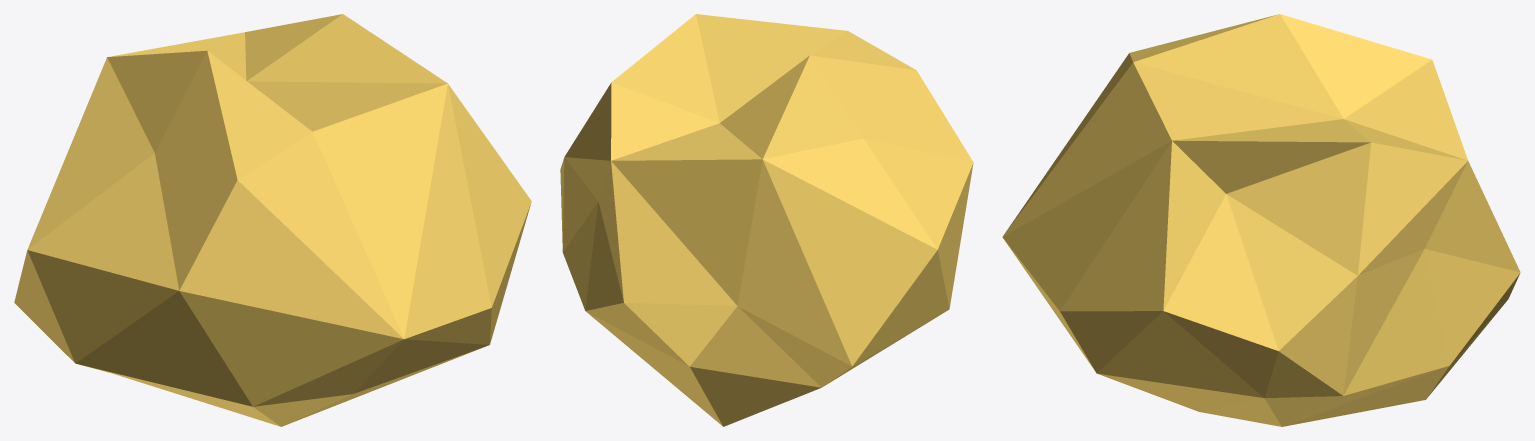
Rendered from Wustensteine3.fbx.
The picture shows the model from 3 angles, left to right: view 1: azimuth 30°, elevation 25°; view 2: azimuth 150°, elevation 25°; view 3: azimuth 270°, elevation 25°; orthographic projection. The views are drawn at different scales.
Parts seen in each view (by area): view 1: Wüstenstein3; view 2: Wüstenstein3; view 3: Wüstenstein3.
Part boxes in pixels (x1,y1,x2,y2): Wüstenstein3: (14, 14, 531, 426); Wüstenstein3: (560, 14, 973, 426); Wüstenstein3: (1002, 14, 1520, 426).
Size of the model in its own units: 36.68 by 29.78 by 37.06.
